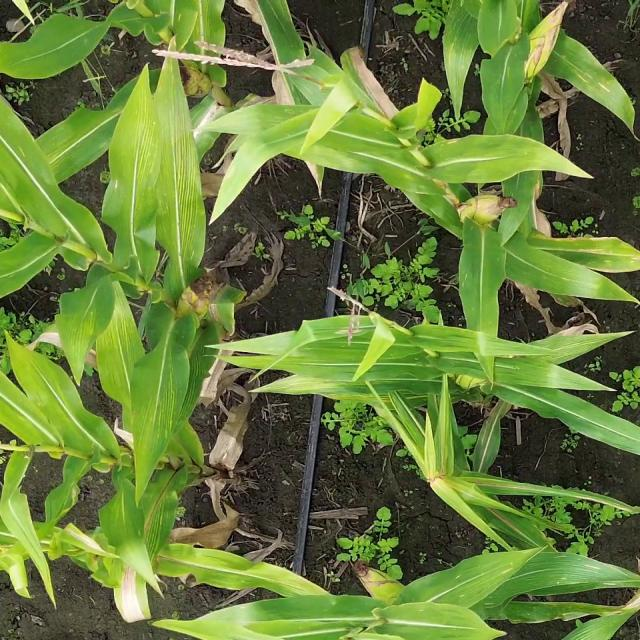gray-leaf-spot: (419, 545, 640, 619), (548, 38, 635, 115), (416, 14, 478, 107)
northern-leaf-blight: (95, 492, 170, 629)
southern-leaf-blight: (530, 220, 640, 286)
